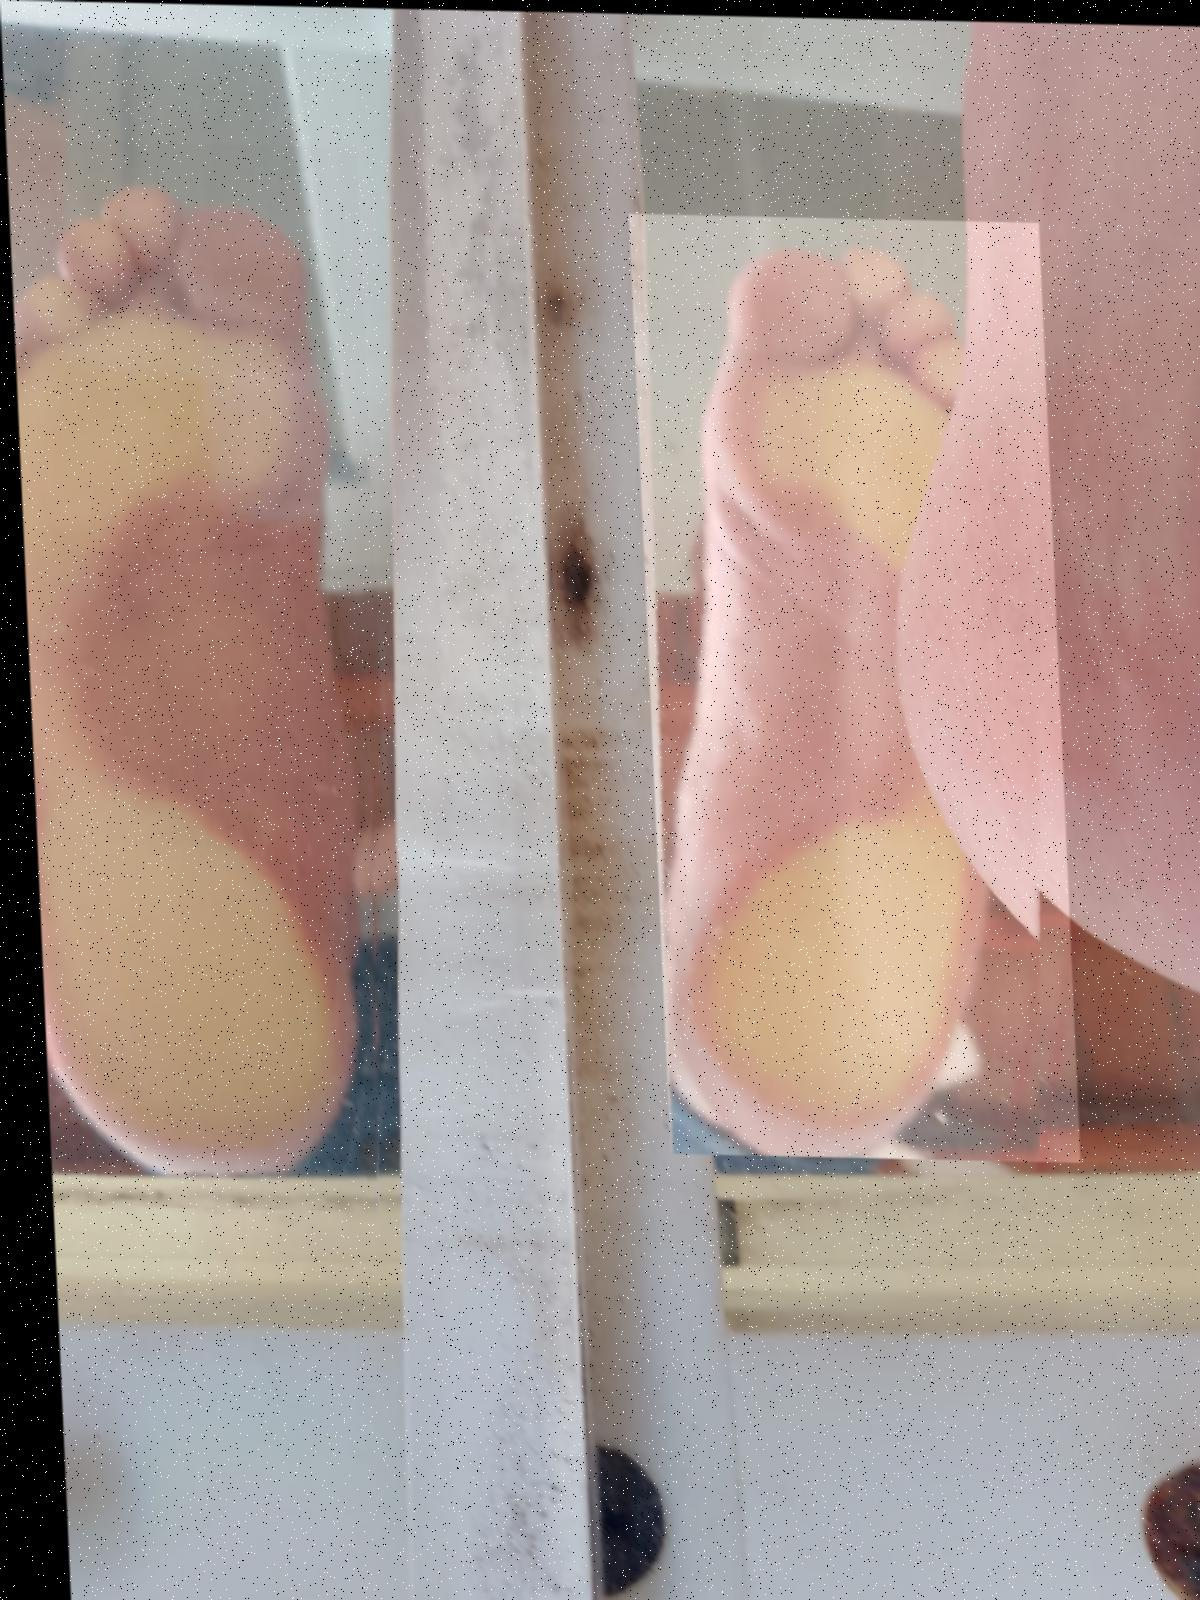Present: (626, 210, 1070, 1158), (5, 140, 392, 1211)
